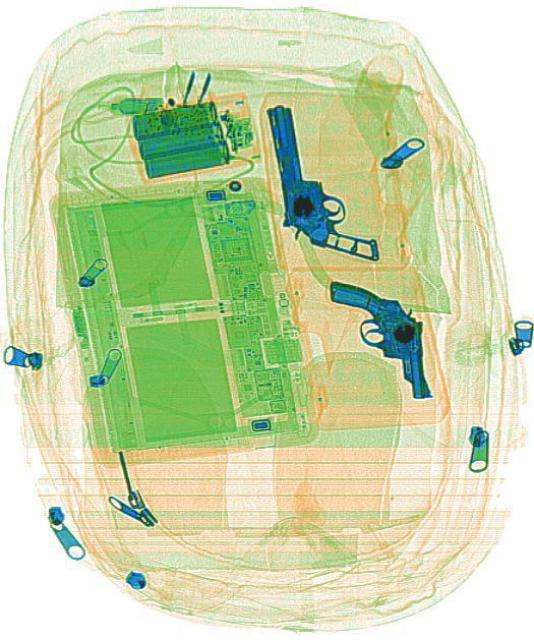Gun: (263, 88, 379, 280), (326, 268, 427, 408)
